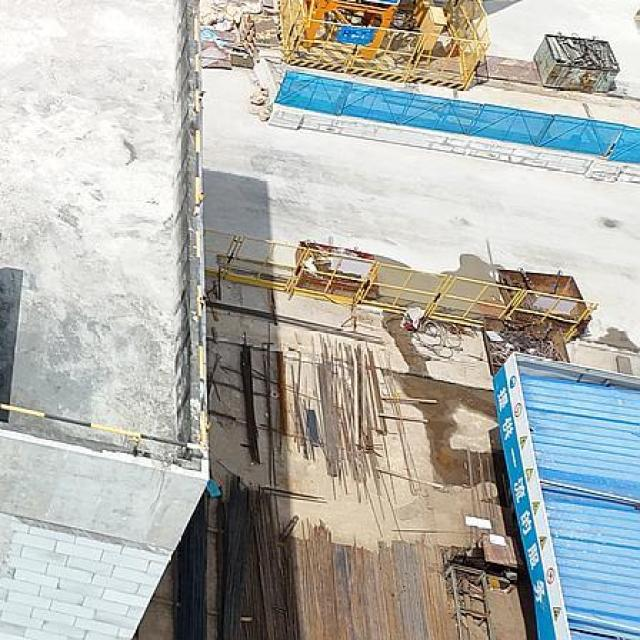edge_guardrail: (0, 1, 217, 462)
